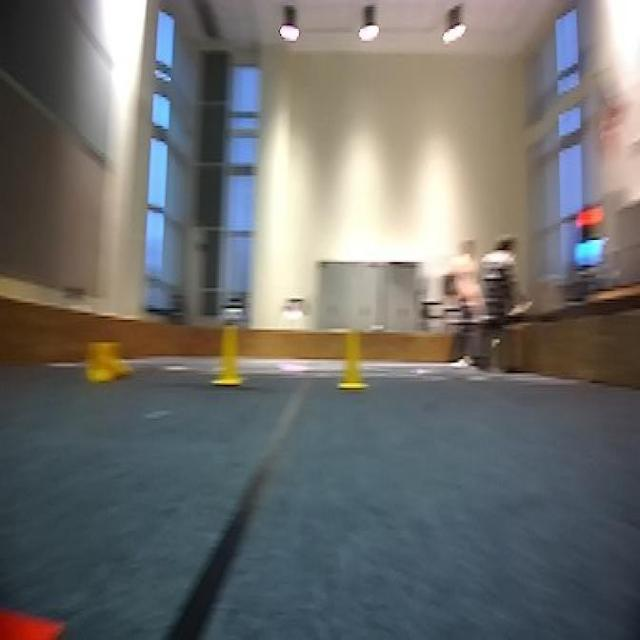frc_cone: (336, 328, 372, 395), (211, 320, 246, 388), (82, 338, 132, 384)
